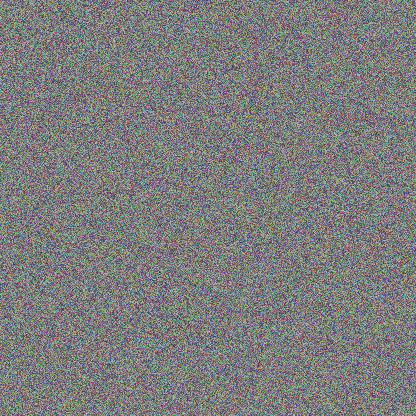empty: (230, 191, 302, 282)
occupied: (106, 271, 179, 374)
